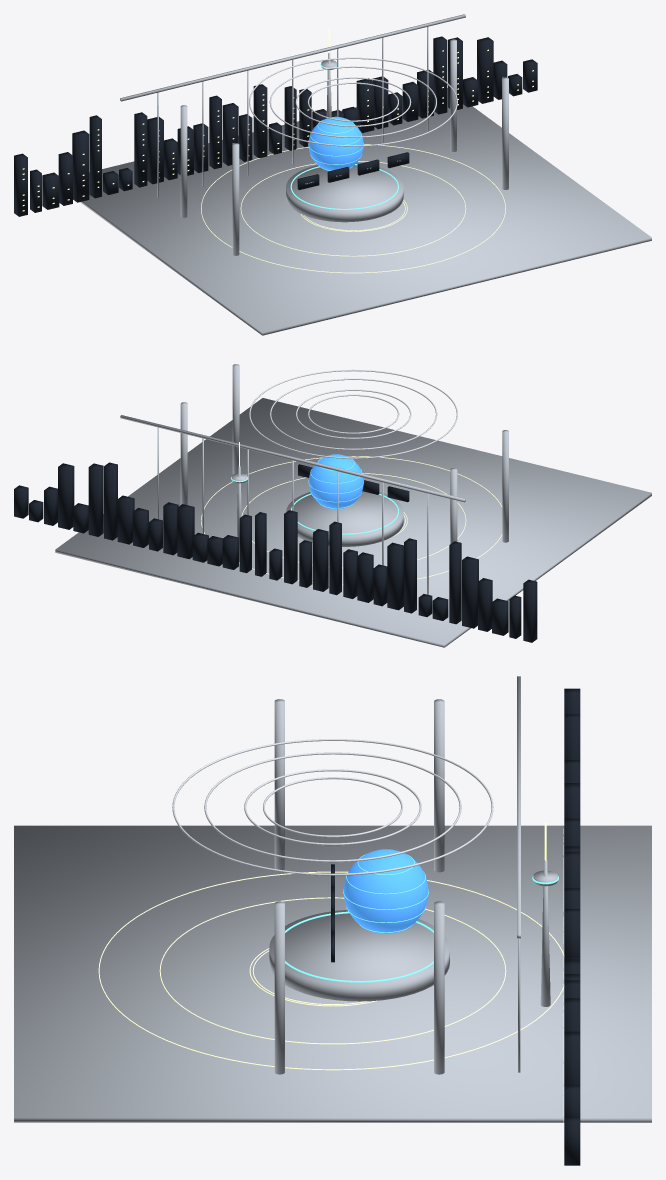
File: work.glb
The picture shows the model from 3 angles, top to bottom: view 1: azimuth 30°, elevation 25°; view 2: azimuth 150°, elevation 25°; view 3: azimuth 270°, elevation 25°; orthographic projection. The views are drawn at different scales.
Visible parts, largest first — view 1: Reflective floor, Operations console, Earth hologram, Window lintel, Toronto skyline.004, Toronto skyline.028, Toronto skyline.031, Toronto skyline.005, Toronto skyline.016, Toronto skyline.009, Toronto skyline.008, Ceiling light ring.003 (+26 smaller); view 2: Reflective floor, Operations console, Earth hologram, Window lintel, Toronto skyline.004, Toronto skyline.029, Toronto skyline.009, Toronto skyline.031, Toronto skyline.028, Toronto skyline.005, Toronto skyline.016, Toronto skyline.014 (+32 smaller); view 3: Reflective floor, Operations console, Earth hologram, Ceiling light ring.003, Chrome column.003, Chrome column.002, Chrome column.001, Chrome column, Ceiling light ring.002, Architectural floor inlay.003, Ceiling light ring.001, Architectural floor inlay.002 (+7 smaller).
Part boxes in pixels (left/top/right/bottom): Reflective floor: left=80, top=88, right=651, bottom=335; Operations console: left=286, top=163, right=403, bottom=222; Earth hologram: left=308, top=116, right=363, bottom=170; Window lintel: left=120, top=14, right=465, bottom=101; Toronto skyline.004: left=72, top=130, right=89, bottom=202; Toronto skyline.028: left=433, top=36, right=447, bottom=114; Toronto skyline.031: left=477, top=37, right=493, bottom=103; Toronto skyline.005: left=89, top=115, right=101, bottom=198; Toronto skyline.016: left=253, top=84, right=267, bottom=157; Toronto skyline.009: left=147, top=117, right=163, bottom=184; Toronto skyline.008: left=134, top=112, right=147, bottom=187; Ceiling light ring.003: left=249, top=57, right=457, bottom=146; Reflective floor: left=55, top=398, right=651, bottom=647; Operations console: left=286, top=491, right=403, bottom=546; Earth hologram: left=308, top=454, right=363, bottom=509; Window lintel: left=120, top=415, right=465, bottom=502; Toronto skyline.004: left=462, top=556, right=478, bottom=628; Toronto skyline.029: left=88, top=463, right=103, bottom=536; Toronto skyline.009: left=387, top=542, right=403, bottom=610; Toronto skyline.031: left=58, top=463, right=74, bottom=529; Toronto skyline.028: left=104, top=462, right=117, bottom=540; Toronto skyline.005: left=449, top=541, right=461, bottom=624; Toronto skyline.016: left=284, top=510, right=297, bottom=584; Toronto skyline.014: left=313, top=529, right=328, bottom=591; Reflective floor: left=14, top=825, right=651, bottom=1122; Operations console: left=269, top=910, right=449, bottom=1001; Earth hologram: left=343, top=849, right=428, bottom=933; Ceiling light ring.003: left=172, top=739, right=493, bottom=875; Chrome column.003: left=434, top=901, right=444, bottom=1074; Chrome column.002: left=274, top=901, right=284, bottom=1074; Chrome column.001: left=434, top=699, right=444, bottom=872; Chrome column: left=274, top=699, right=284, bottom=872; Ceiling light ring.002: left=204, top=752, right=461, bottom=862; Architectural floor inlay.003: left=98, top=871, right=564, bottom=1070; Ceiling light ring.001: left=244, top=769, right=421, bottom=845; Architectural floor inlay.002: left=159, top=897, right=506, bottom=1044.
Bounding box in the file's own units: 34.6 × 7.77 × 24.
